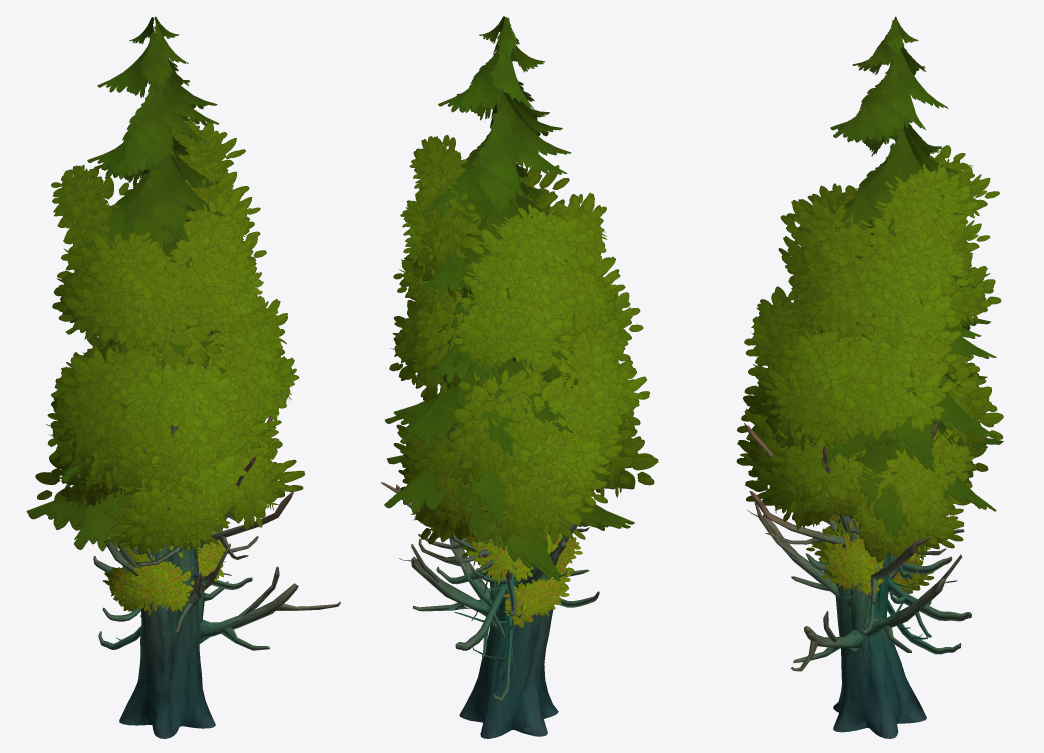
The model's file is trees.glb.
3 renders of one model, left to right at view 1: azimuth 30°, elevation 25°; view 2: azimuth 150°, elevation 25°; view 3: azimuth 270°, elevation 25°, orthographic. The views are drawn at different scales.
Parts seen in each view (by area): view 1: LOD0 (×7); view 2: LOD0 (×7); view 3: LOD0 (×7).
Boxes of the visible parts, bbox=[...] form: LOD0 (×7): bbox=[26, 16, 340, 738]; LOD0 (×7): bbox=[380, 16, 658, 738]; LOD0 (×7): bbox=[736, 16, 1003, 738].
Size of what is drawn, in the model's own units: 7.43 by 19.04 by 7.77.
Materials: 2 (2 with a texture image).
